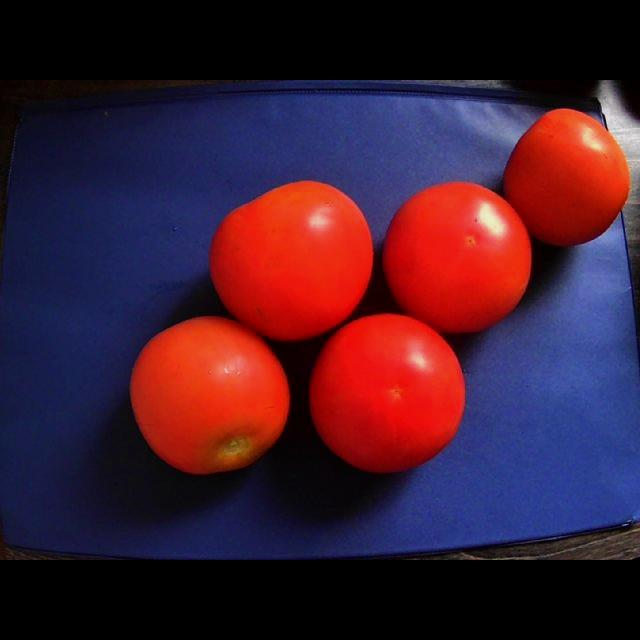tomate: (209, 182, 372, 339), (130, 316, 289, 473), (309, 314, 464, 472), (383, 183, 531, 332), (503, 108, 630, 246)
